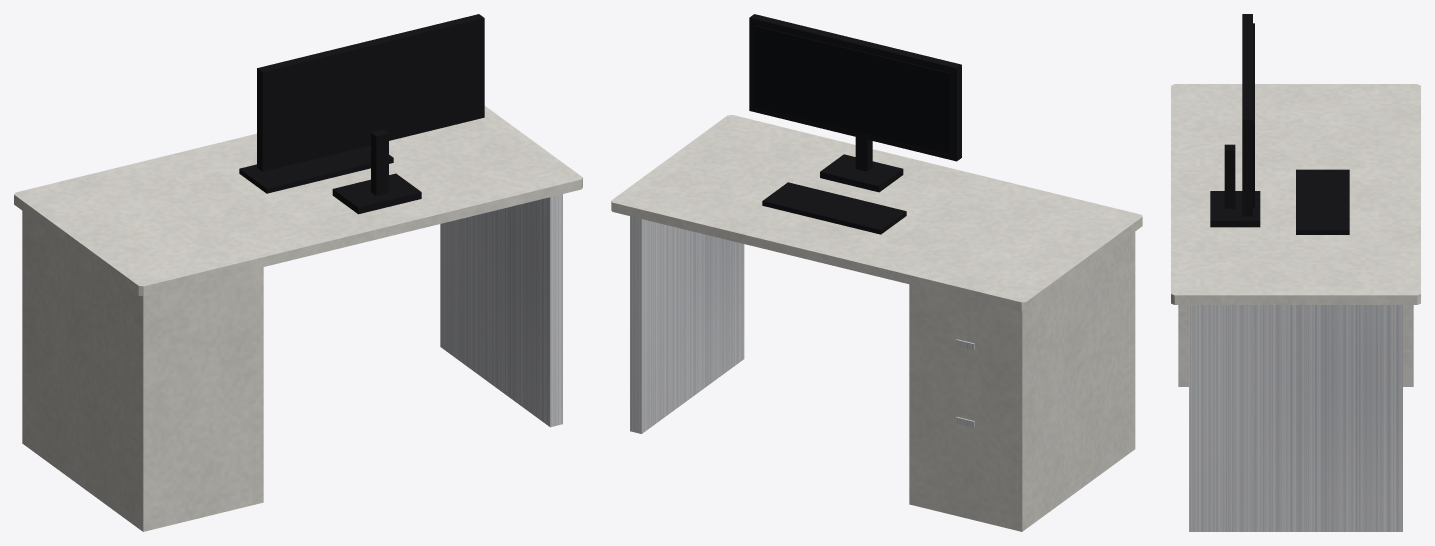
The model's file is desk.obj.
The picture shows the model from 3 angles, left to right: view 1: azimuth 30°, elevation 25°; view 2: azimuth 150°, elevation 25°; view 3: azimuth 270°, elevation 25°; orthographic projection. The views are drawn at different scales.
Parts seen in each view (by area): view 1: desk; view 2: desk; view 3: desk.
Part boxes in pixels (bbox=[...]): desk: bbox=[14, 14, 582, 531]; desk: bbox=[611, 14, 1142, 531]; desk: bbox=[1171, 14, 1420, 531].
Size of the model in its own units: 1.4 by 1.2 by 0.7.
5 materials, 3 textured.
